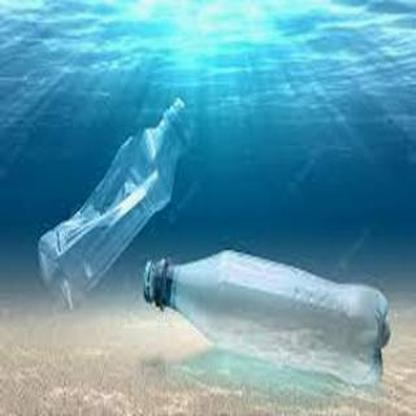plastic bottle: (35, 94, 193, 311), (144, 249, 389, 386)
